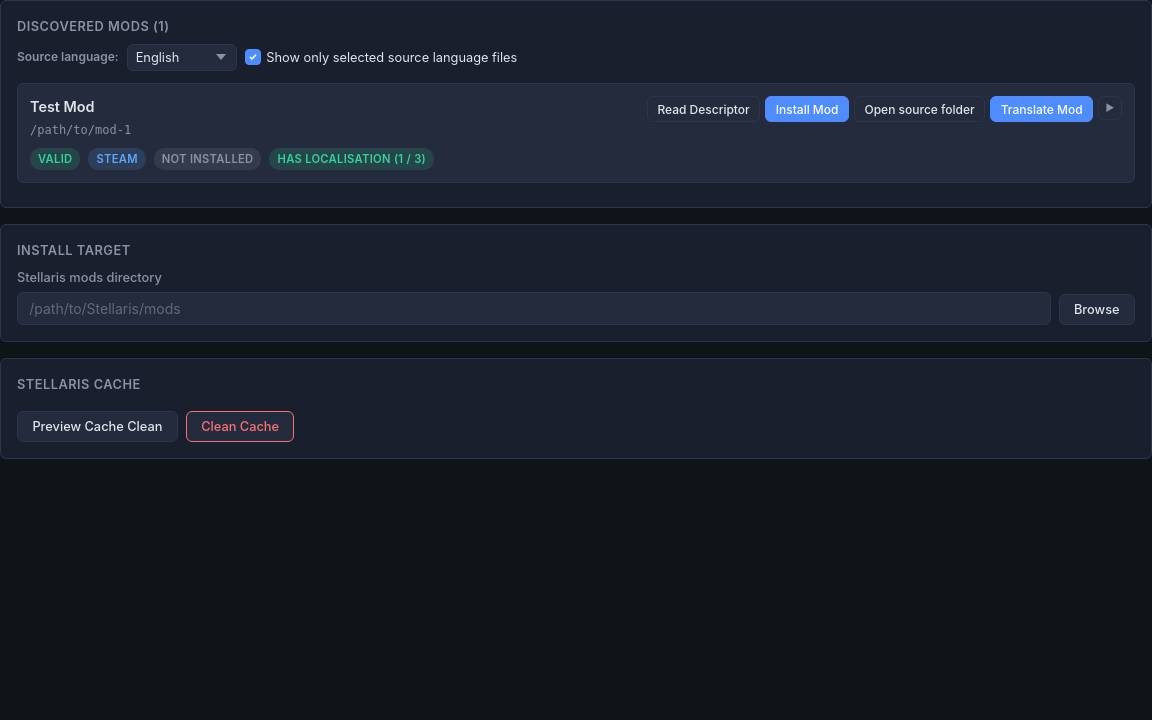
Scenario: ModListSection — global source language filter › changing language in global selector updates visible files
Click the button titled "Expand" at (1110, 108), box [1098, 96, 1122, 120]
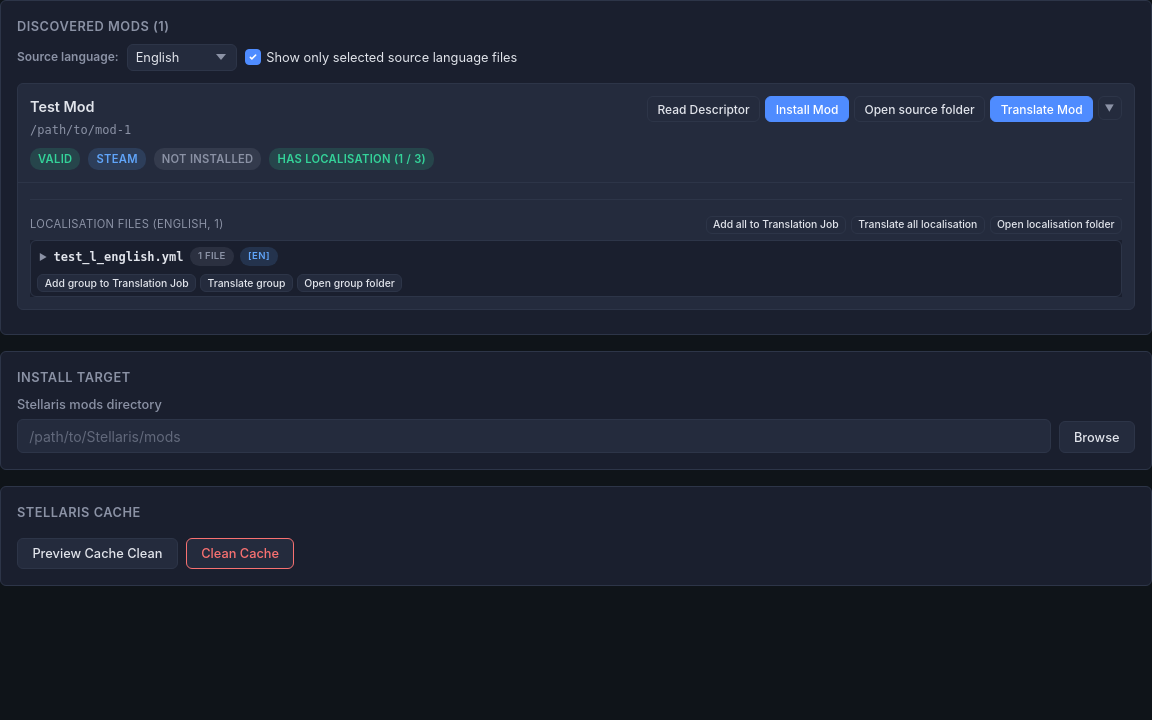
Now the text "Localisation files (English, 1)" is shown, box [30, 216, 224, 233]
Select "French" in the dropdown at (182, 58), box [127, 44, 237, 71]
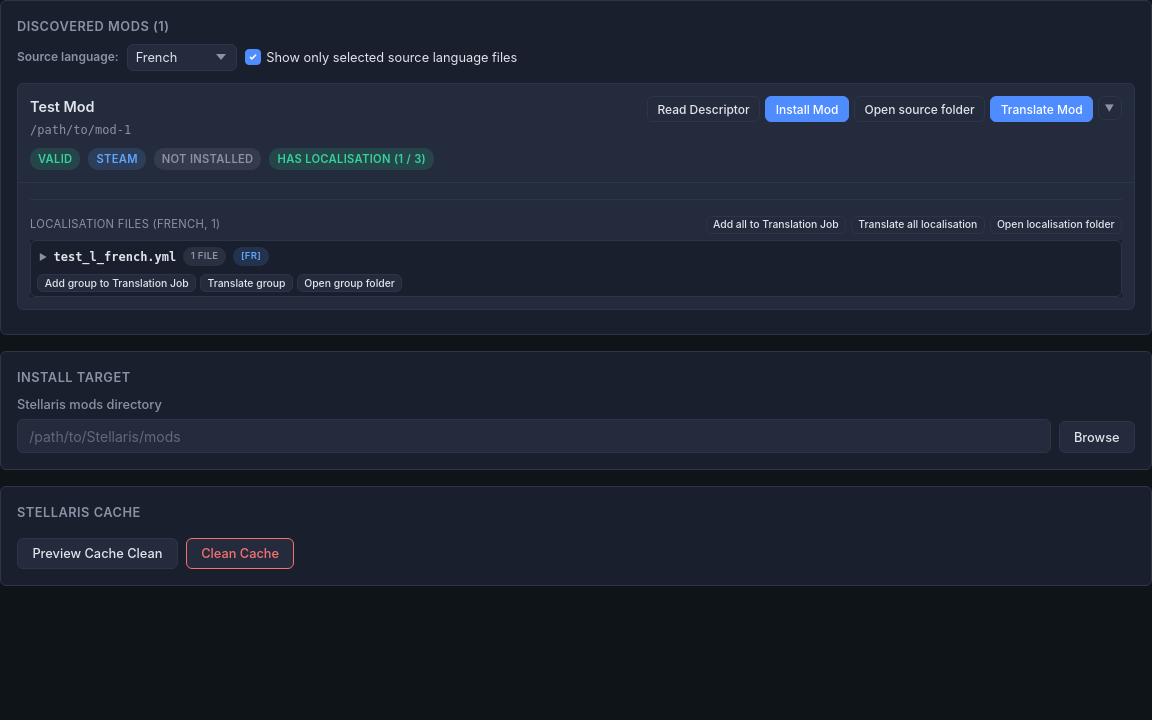
Now the text "Localisation files (French, 1)" is shown, box [30, 216, 220, 233]
